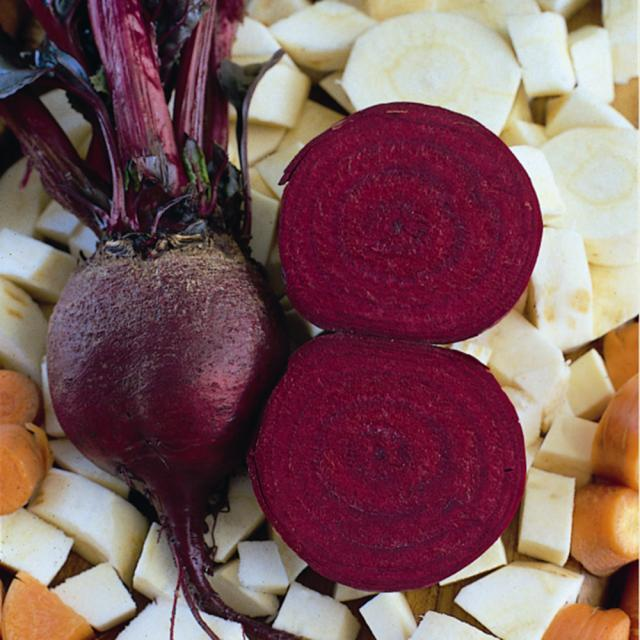beet: (251, 341, 531, 589), (274, 101, 546, 341), (46, 236, 272, 503)
